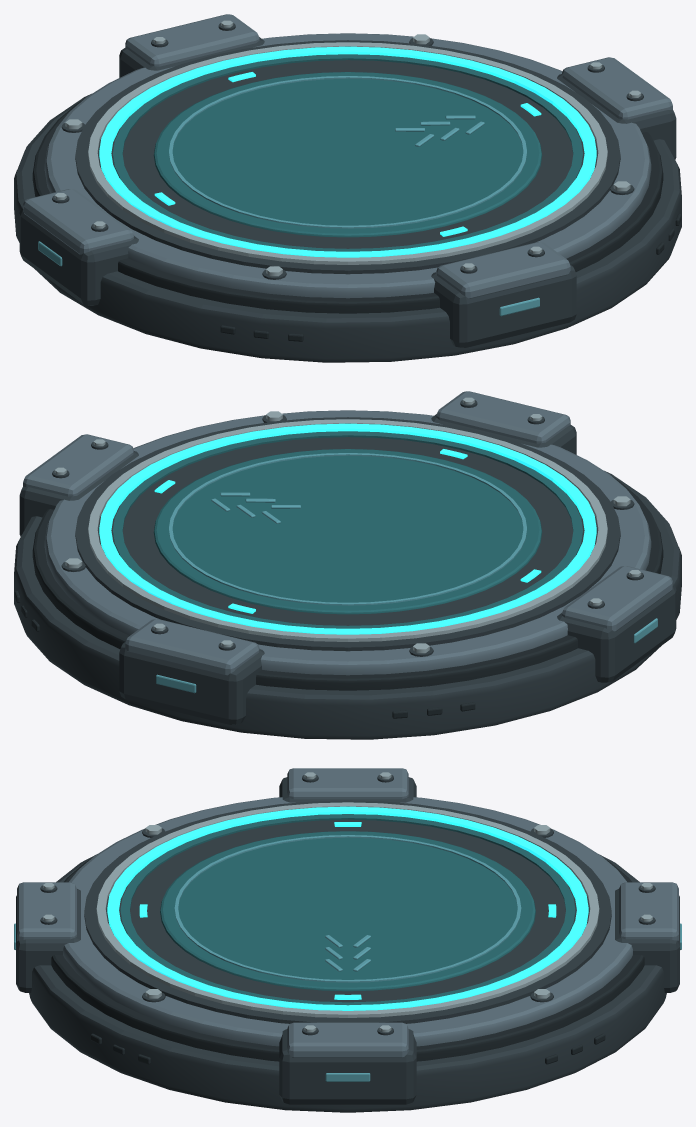
File: wsc-prop-035-zipline-landing-pad.glb
The picture shows the model from 3 angles, top to bottom: view 1: azimuth 30°, elevation 25°; view 2: azimuth 150°, elevation 25°; view 3: azimuth 270°, elevation 25°; orthographic projection. The views are drawn at different scales.
Visible parts, largest first — view 1: WSC-PROP-035 | Gunmetal, WSC-PROP-035 | Teal enamel, WSC-PROP-035 | Slate steel, WSC-PROP-035 | Cyan lens, WSC-PROP-035 | Worn edge, WSC-PROP-035 | Black rubber, WSC-PROP-035 | Cyan frosted; view 2: WSC-PROP-035 | Gunmetal, WSC-PROP-035 | Teal enamel, WSC-PROP-035 | Slate steel, WSC-PROP-035 | Cyan lens, WSC-PROP-035 | Worn edge, WSC-PROP-035 | Black rubber, WSC-PROP-035 | Cyan frosted; view 3: WSC-PROP-035 | Gunmetal, WSC-PROP-035 | Teal enamel, WSC-PROP-035 | Slate steel, WSC-PROP-035 | Cyan lens, WSC-PROP-035 | Worn edge, WSC-PROP-035 | Black rubber, WSC-PROP-035 | Cyan frosted.
Boxes of the visible parts, <box> form: WSC-PROP-035 | Gunmetal: <box>14,23,681,362</box>; WSC-PROP-035 | Teal enamel: <box>113,54,582,251</box>; WSC-PROP-035 | Slate steel: <box>23,14,672,298</box>; WSC-PROP-035 | Cyan lens: <box>99,46,596,257</box>; WSC-PROP-035 | Worn edge: <box>54,20,641,276</box>; WSC-PROP-035 | Black rubber: <box>15,99,681,341</box>; WSC-PROP-035 | Cyan frosted: <box>38,76,539,316</box>; WSC-PROP-035 | Gunmetal: <box>14,400,681,739</box>; WSC-PROP-035 | Teal enamel: <box>113,431,582,628</box>; WSC-PROP-035 | Slate steel: <box>23,391,672,675</box>; WSC-PROP-035 | Cyan lens: <box>99,423,596,634</box>; WSC-PROP-035 | Worn edge: <box>54,397,641,653</box>; WSC-PROP-035 | Black rubber: <box>14,476,680,718</box>; WSC-PROP-035 | Cyan frosted: <box>156,453,657,693</box>; WSC-PROP-035 | Gunmetal: <box>16,775,679,1112</box>; WSC-PROP-035 | Teal enamel: <box>120,814,575,1005</box>; WSC-PROP-035 | Slate steel: <box>17,768,678,1057</box>; WSC-PROP-035 | Cyan lens: <box>107,806,588,1010</box>; WSC-PROP-035 | Worn edge: <box>43,772,652,1032</box>; WSC-PROP-035 | Black rubber: <box>51,858,644,1064</box>; WSC-PROP-035 | Cyan frosted: <box>14,835,681,1081</box>.
Size of the model in its own units: 2.84 by 0.365 by 2.84.
